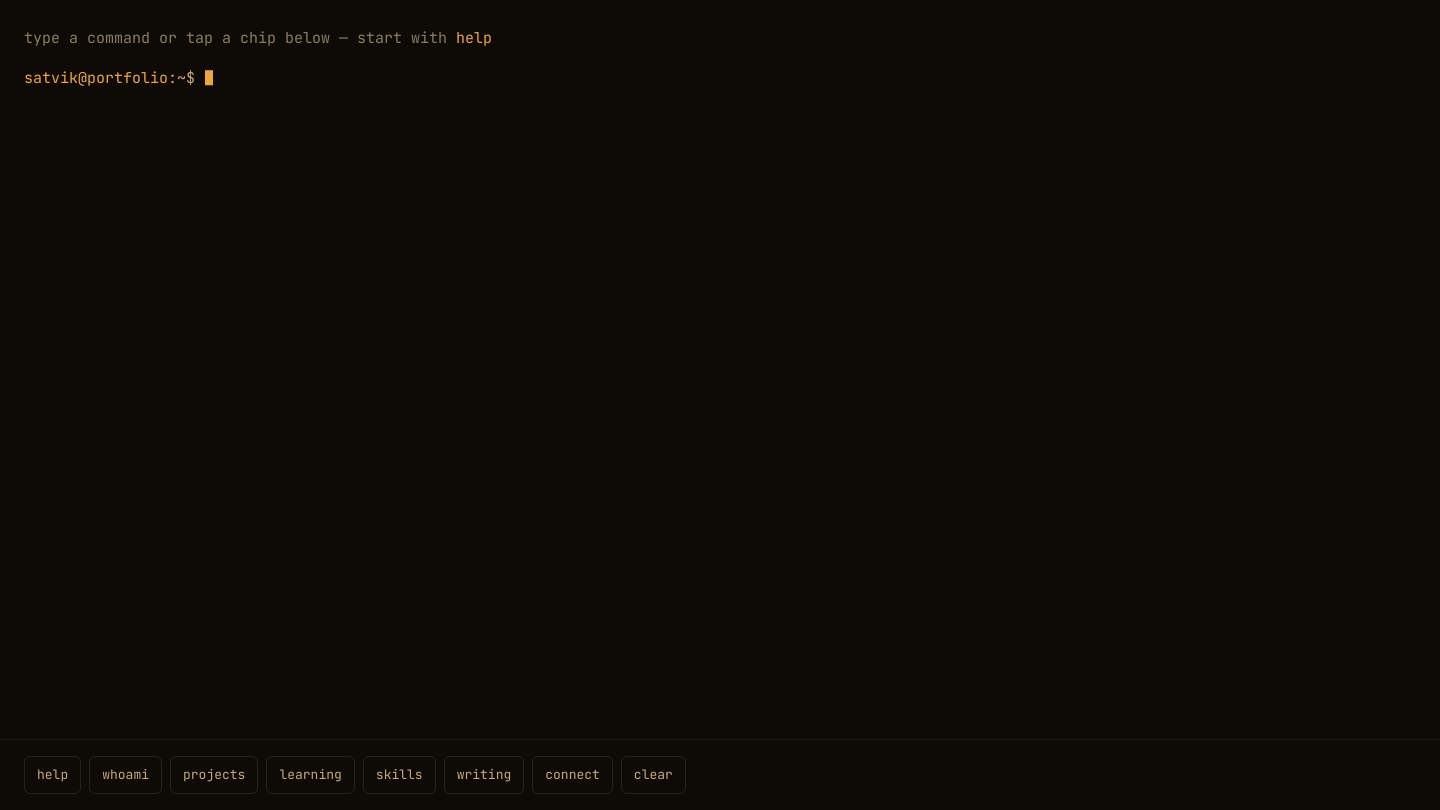
Test: Shell › runs a command when its chip is clicked
This screenshot has width=1440, height=810.
Step 1. Click the button "help" → (53, 775), box x1=24 y1=756 x2=81 y2=794
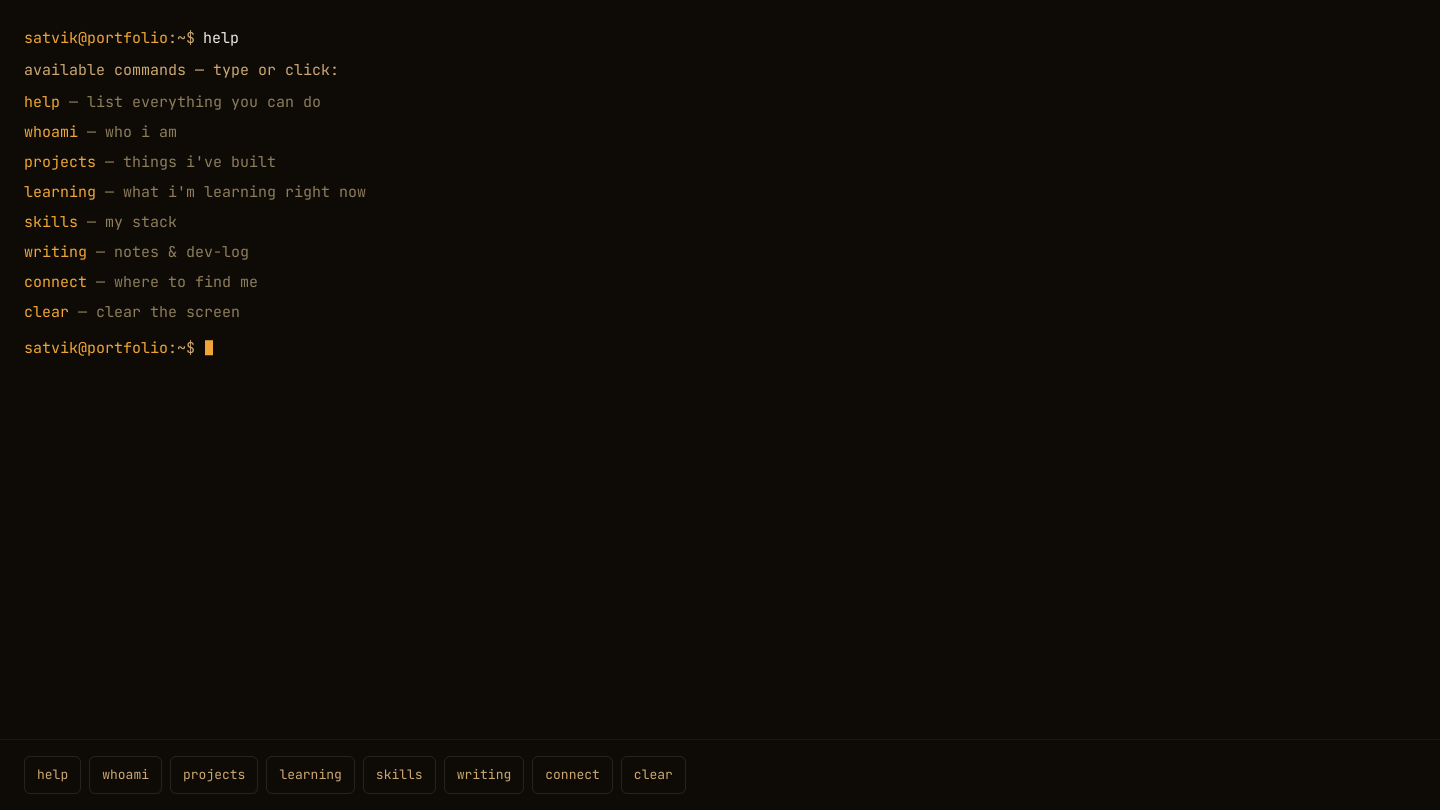
Now the text "available commands — type or click:" is shown, box x1=24 y1=60 x2=339 y2=80
